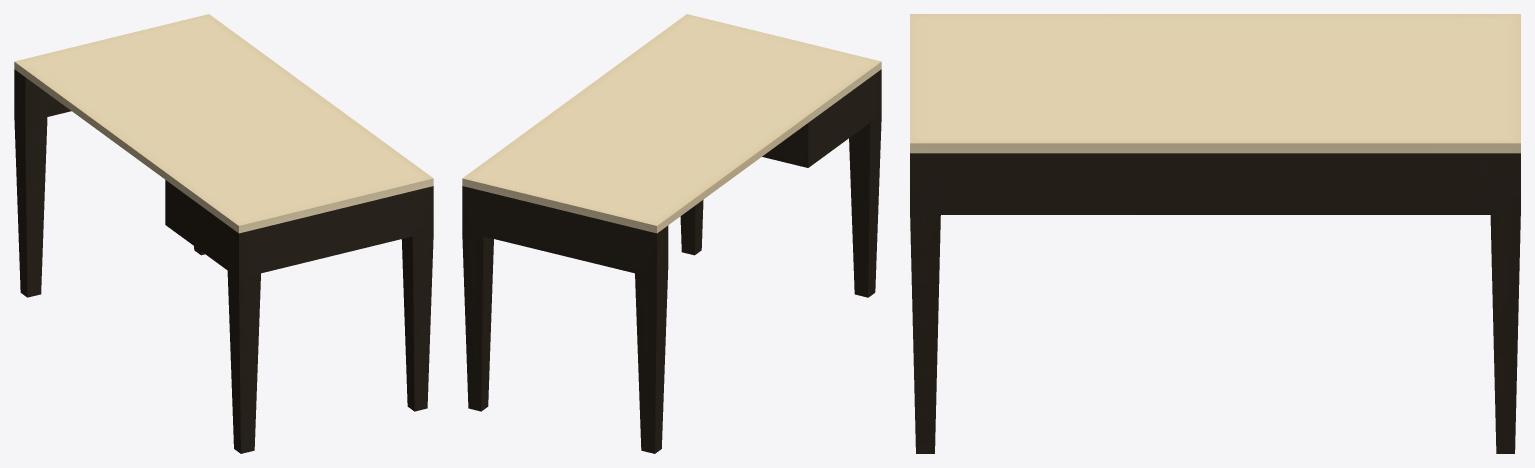
File: table.dae
3 views of the same model, side by side, from view 1: azimuth 30°, elevation 25°; view 2: azimuth 150°, elevation 25°; view 3: azimuth 270°, elevation 25° (orthographic). The views are drawn at different scales.
Parts seen in each view (by area): view 1: desk_low; view 2: desk_low; view 3: desk_low.
Boxes of the visible parts, x1,y1,x2,y2 form: desk_low: (14,14,433,453); desk_low: (462,14,881,453); desk_low: (910,14,1520,453).
Size of the model in its own units: 5.01 by 10 by 5.66.
1 material, 1 textured.
